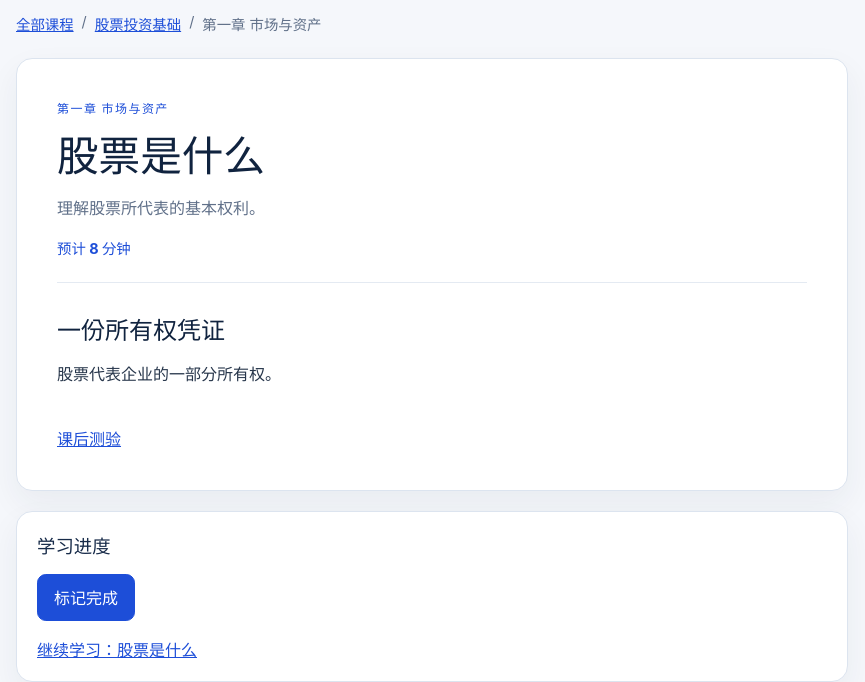
Scenario: LessonView › recovers the button and never fabricates completion after a failed PUT
Step 1. Click the button with test id "complete-lesson" → click(86, 597), box [37, 574, 135, 621]
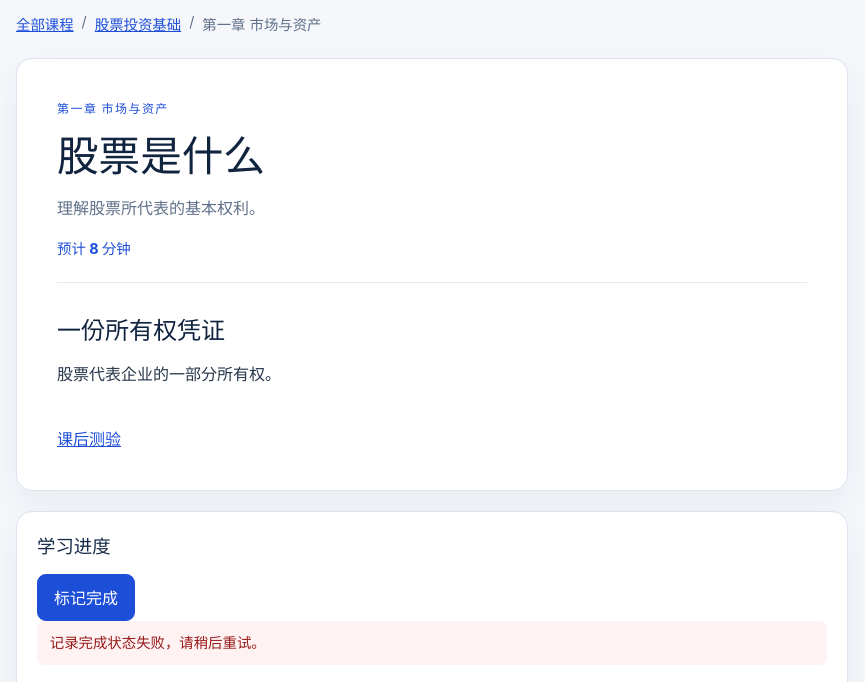
expect the message "记录完成状态失败，请稍后重试。" is shown: met, box [37, 620, 827, 664]
